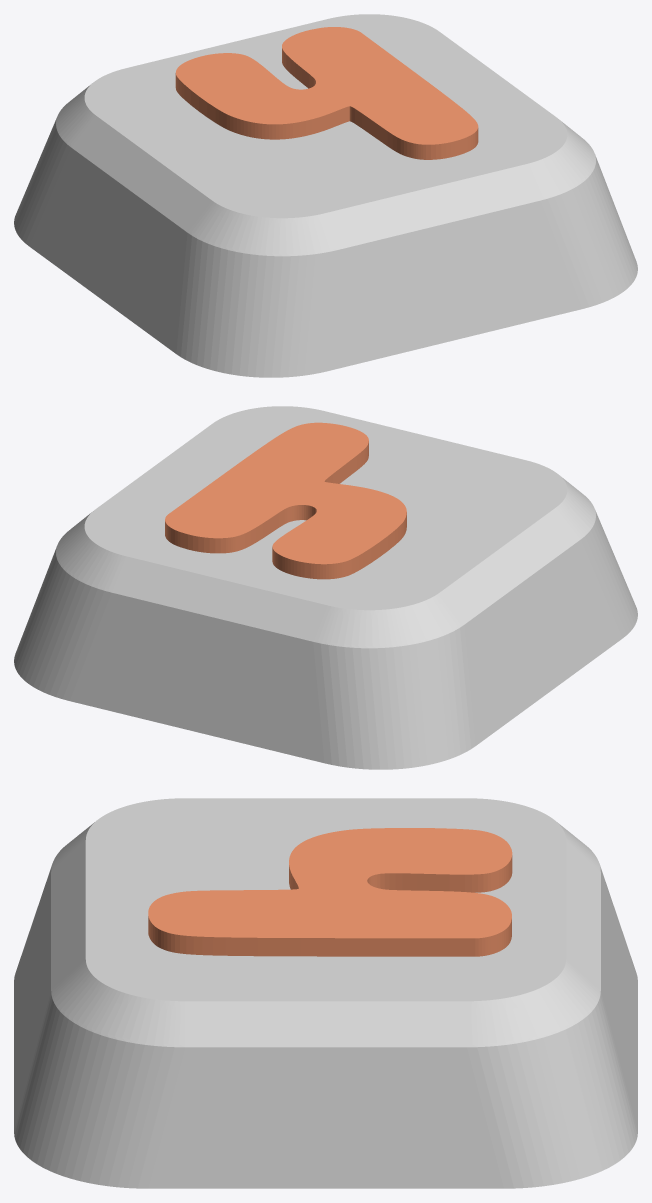
The model's file is cap-4.glb.
The picture shows the model from 3 angles, top to bottom: view 1: azimuth 30°, elevation 25°; view 2: azimuth 150°, elevation 25°; view 3: azimuth 270°, elevation 25°; orthographic projection. The views are drawn at different scales.
Visible parts, largest first — view 1: cap_0, glyph_1; view 2: cap_0, glyph_1; view 3: cap_0, glyph_1.
Boxes of the visible parts, x1=… form: cap_0: x1=14, y1=14, x2=637, y2=377; glyph_1: x1=175, y1=27, x2=478, y2=159; cap_0: x1=14, y1=406, x2=637, y2=769; glyph_1: x1=165, y1=422, x2=406, y2=579; cap_0: x1=14, y1=798, x2=637, y2=1188; glyph_1: x1=148, y1=828, x2=512, y2=956.
Bounding box in the file's own units: 18 × 5.59 × 18.
